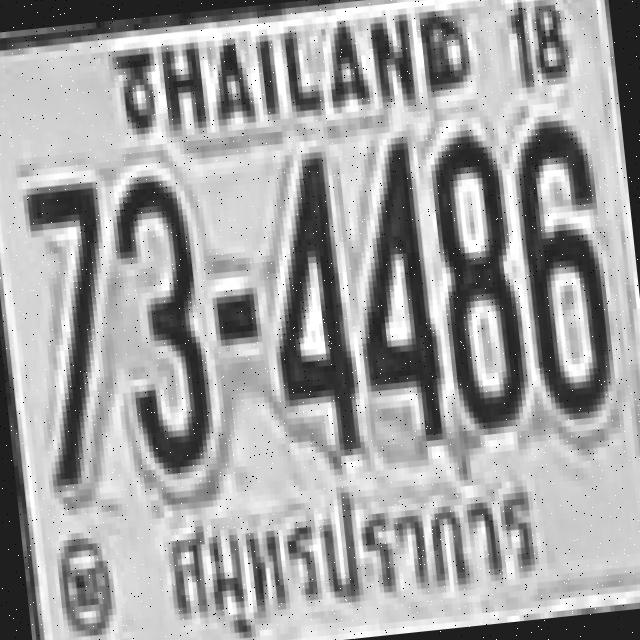3: (106, 166, 214, 470)
4: (254, 144, 360, 455), (341, 132, 442, 444)
6: (508, 111, 614, 416)
7: (22, 176, 123, 487)
8: (423, 124, 528, 428)
SamutPrakan: (147, 470, 550, 640)
